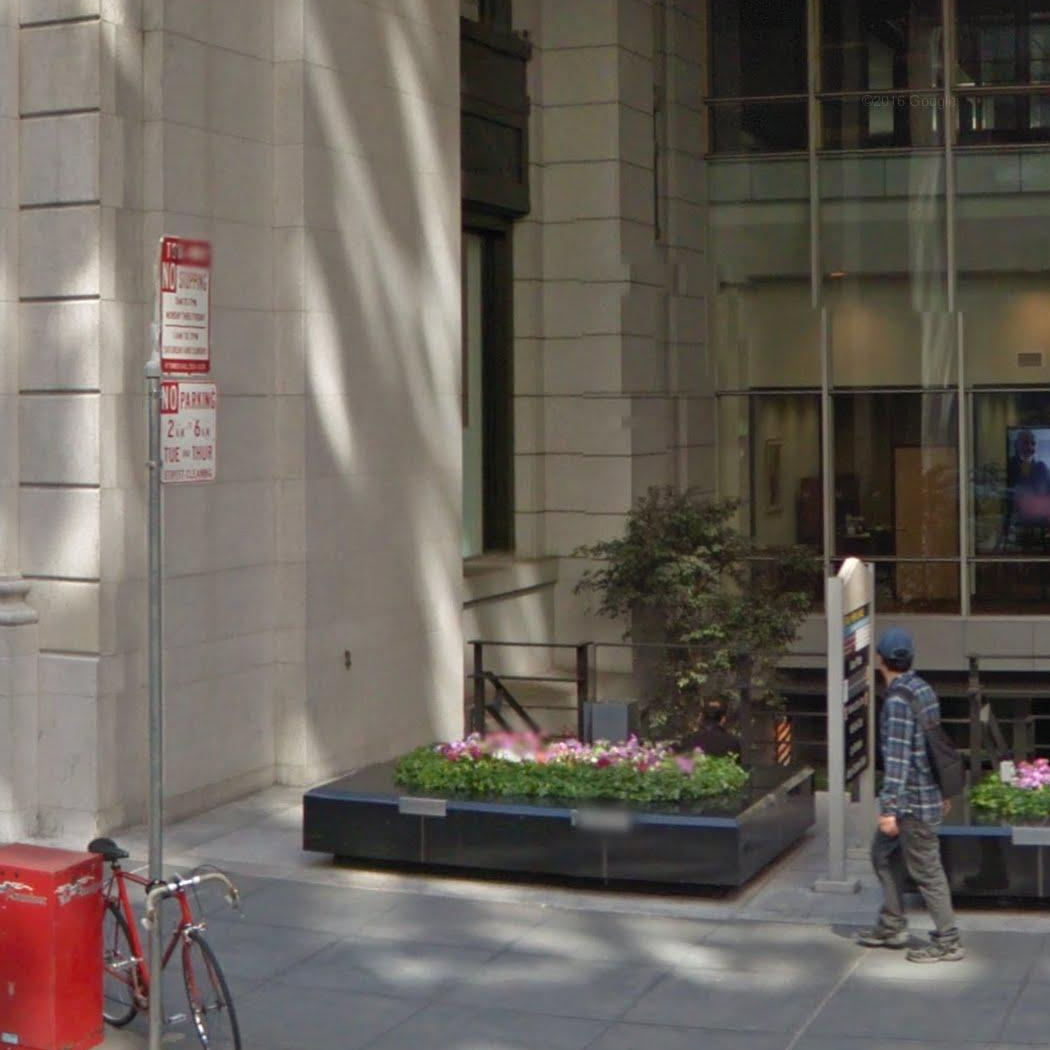No Parking: (155, 379, 220, 487)
